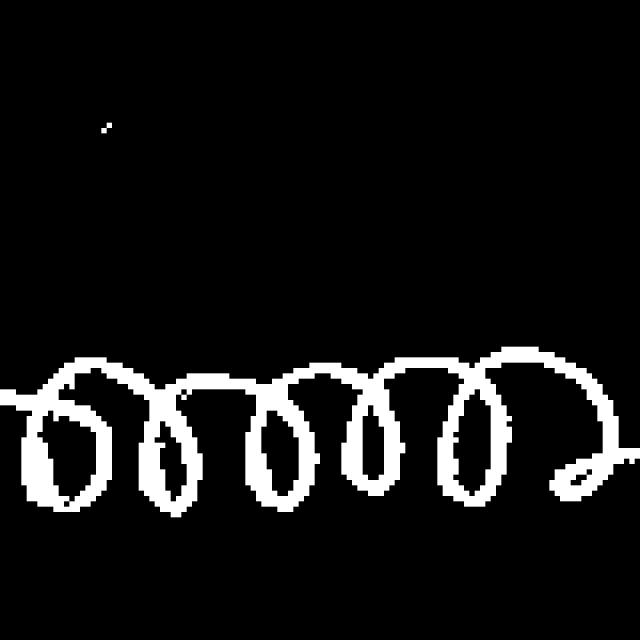inductor: (9, 333, 623, 538)
